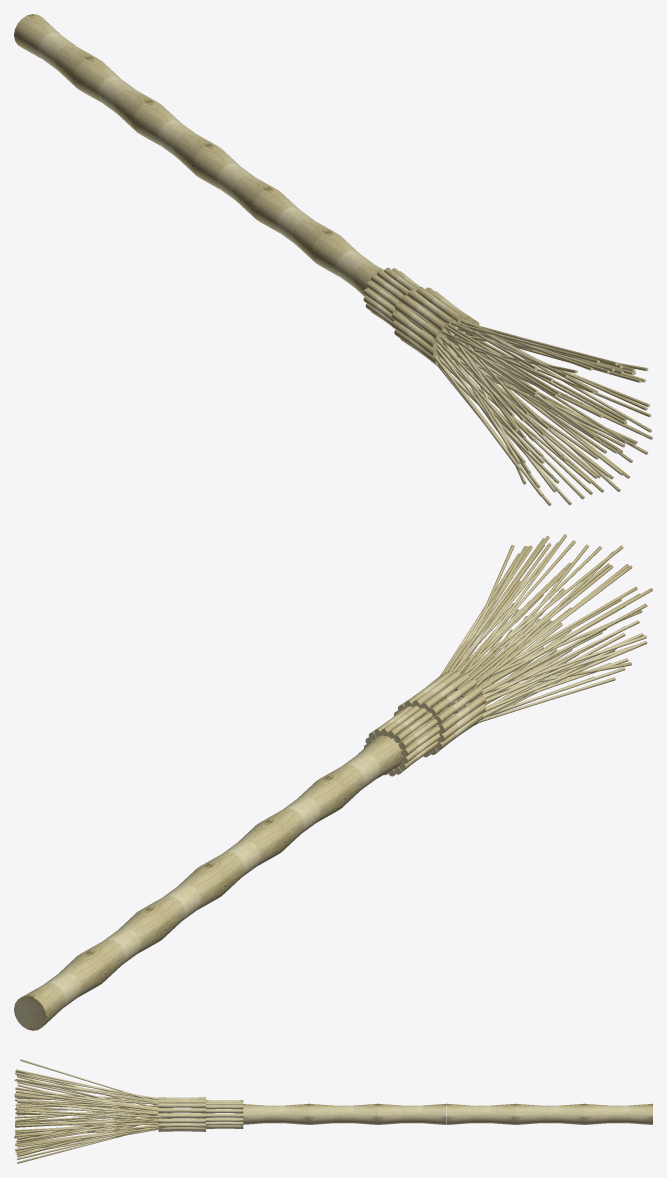
File: JBroom.fbx
3 views of the same model, one above another, from view 1: azimuth 30°, elevation 25°; view 2: azimuth 150°, elevation 25°; view 3: azimuth 270°, elevation 25° (orthographic). The views are drawn at different scales.
Visible parts, largest first — view 1: Cylinder004, Cylinder001, Cylinder002, Cylinder003, Cylinder041, Cylinder005; view 2: Cylinder041, Cylinder002, Cylinder003, Cylinder001, Cylinder004, Cylinder005; view 3: Cylinder001, Cylinder041, Cylinder002, Cylinder003, Cylinder004, Cylinder005, Cylinder106, Cylinder057, Cylinder061, Cylinder087, Cylinder104, Cylinder052 (+33 smaller).
Part boxes in pixels (x1,y1,x2,y2): Cylinder004: (252, 188, 335, 261); Cylinder001: (73, 57, 156, 131); Cylinder002: (133, 101, 215, 174); Cylinder003: (192, 144, 275, 218); Cylinder041: (14, 14, 96, 87); Cylinder005: (312, 232, 401, 306); Cylinder041: (14, 952, 105, 1030); Cylinder002: (142, 865, 225, 938); Cylinder003: (202, 821, 285, 894); Cylinder001: (82, 908, 165, 982); Cylinder004: (261, 777, 344, 851); Cylinder005: (321, 735, 403, 807); Cylinder001: (515, 1103, 584, 1124); Cylinder041: (584, 1103, 652, 1124); Cylinder002: (447, 1103, 515, 1124); Cylinder003: (378, 1103, 446, 1124); Cylinder004: (309, 1103, 377, 1124); Cylinder005: (243, 1103, 309, 1124); Cylinder106: (16, 1109, 171, 1118); Cylinder057: (17, 1127, 164, 1147); Cylinder061: (16, 1091, 158, 1111); Cylinder087: (15, 1072, 158, 1100); Cylinder104: (17, 1101, 158, 1115); Cylinder052: (16, 1119, 158, 1126).
Size of the model in its own units: 8.37 by 8.09 by 56.55.
1 material, 1 textured.
